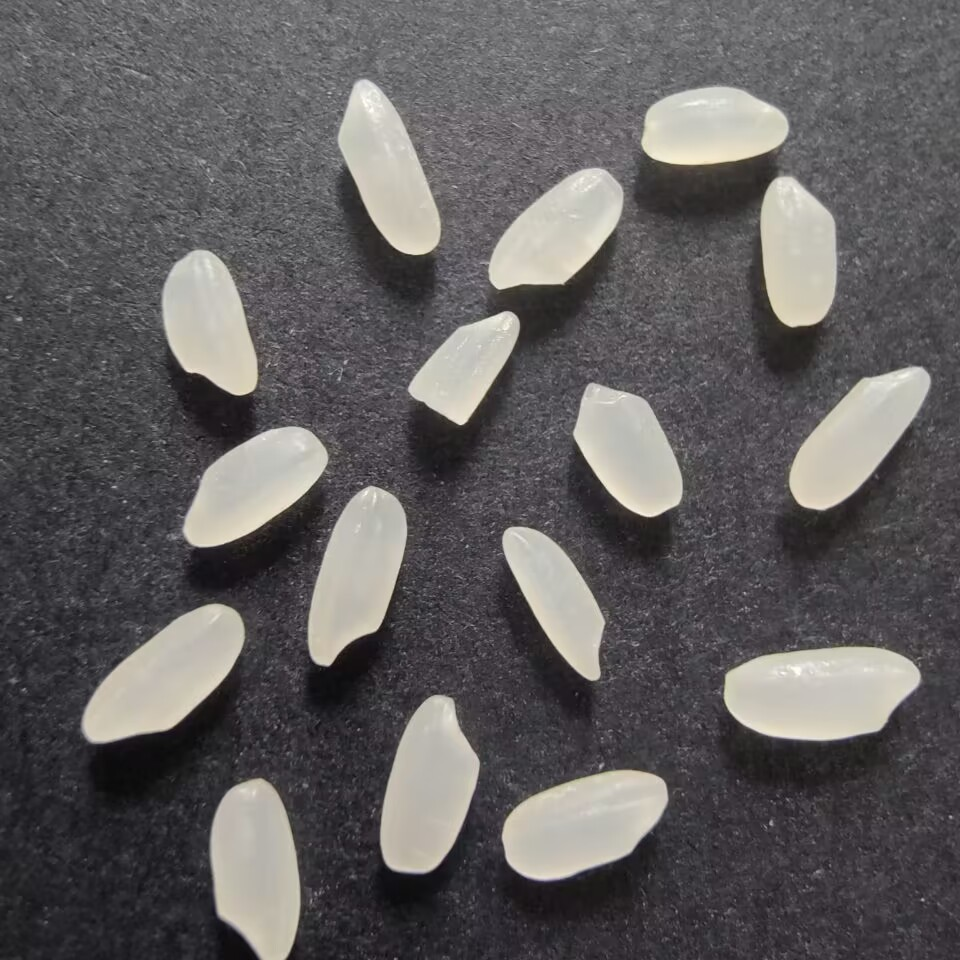broken: (406, 305, 525, 428)
rice: (76, 601, 251, 752), (784, 359, 935, 513), (713, 640, 929, 746), (372, 687, 485, 881), (175, 420, 334, 554), (333, 75, 448, 259), (305, 481, 411, 674), (500, 767, 672, 884), (204, 776, 311, 959), (483, 165, 627, 294), (499, 522, 610, 688), (156, 247, 267, 398), (572, 378, 687, 523), (634, 82, 801, 168), (756, 169, 842, 336)
